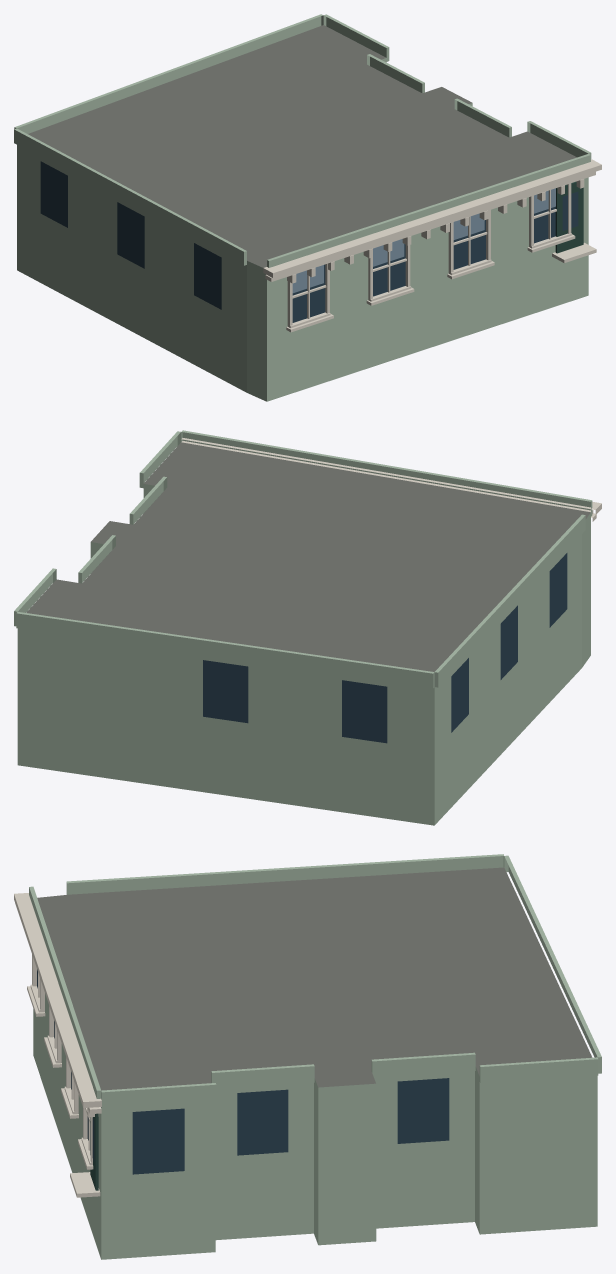
3 renders of one model, top to bottom at view 1: azimuth 30°, elevation 25°; view 2: azimuth 150°, elevation 25°; view 3: azimuth 270°, elevation 25°, orthographic. The views are drawn at different scales.
Visible parts, largest first — view 1: Footprint 0 / surface 1, Footprint 0 / surface 2, Facade bay volumes, Cornices and window frames, Inset glazing, Sky reflection panels, Storefronts and doors; view 2: Footprint 0 / surface 1, Footprint 0 / surface 2, Facade bay volumes, Inset glazing, Cornices and window frames; view 3: Footprint 0 / surface 1, Footprint 0 / surface 2, Facade bay volumes, Inset glazing, Cornices and window frames.
Boxes of the visible parts, x1,y1,x2,y2 form: Footprint 0 / surface 1: (28,25,576,267); Footprint 0 / surface 2: (17,58,588,401); Facade bay volumes: (14,14,591,267); Cornices and window frames: (263,159,601,332); Inset glazing: (40,161,578,322); Sky reflection panels: (292,188,555,293); Storefronts and doors: (555,181,583,253); Footprint 0 / surface 1: (26,442,590,671); Footprint 0 / surface 2: (17,484,590,825); Facade bay volumes: (14,430,592,688); Inset glazing: (203,553,567,743); Cornices and window frames: (181,438,601,521); Footprint 0 / surface 1: (37,867,592,1090); Footprint 0 / surface 2: (33,993,597,1259); Facade bay volumes: (29,854,601,1108); Inset glazing: (37,969,449,1174); Cornices and window frames: (14,893,101,1197).
Size of the model in its own units: 15.62 by 5.14 by 16.19.
